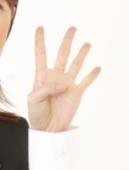right: (23, 25, 103, 131)
